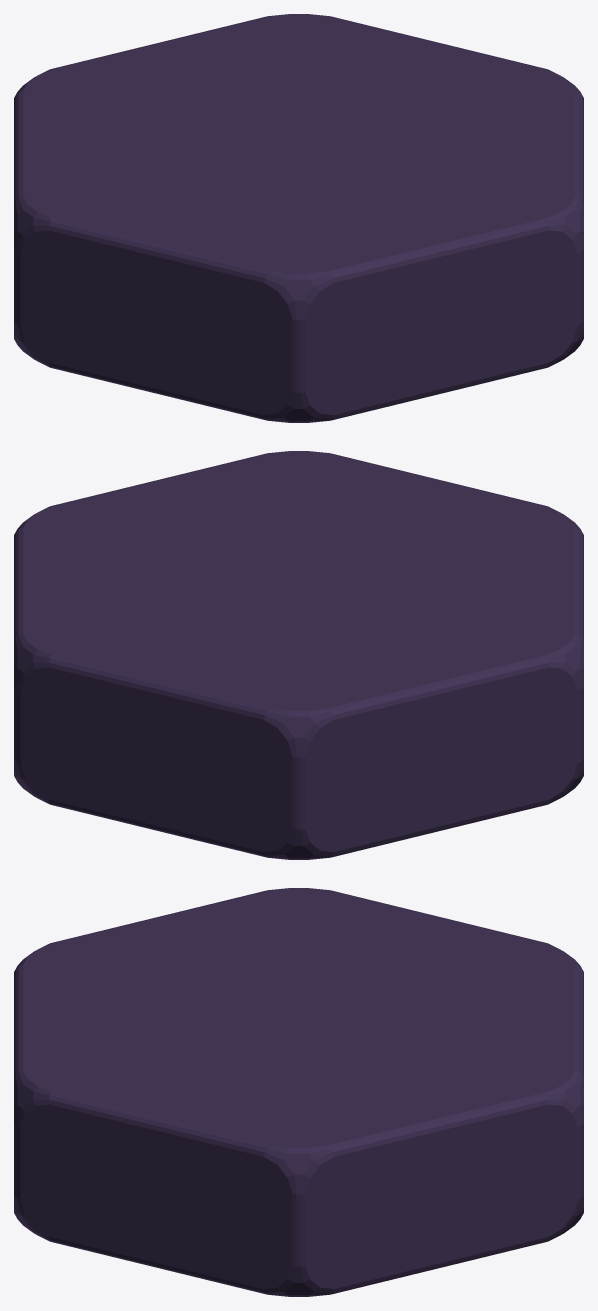
The model's file is hex_general.glb.
The picture shows the model from 3 angles, top to bottom: view 1: azimuth 30°, elevation 25°; view 2: azimuth 150°, elevation 25°; view 3: azimuth 270°, elevation 25°; orthographic projection.
Parts seen in each view (by area): view 1: tile; view 2: tile; view 3: tile.
Boxes of the visible parts, x1,y1,x2,y2 form: tile: (14, 14, 583, 422); tile: (14, 451, 583, 859); tile: (14, 888, 583, 1296).
Bounding box in the file's own units: 1.98 × 0.5 × 1.73.
